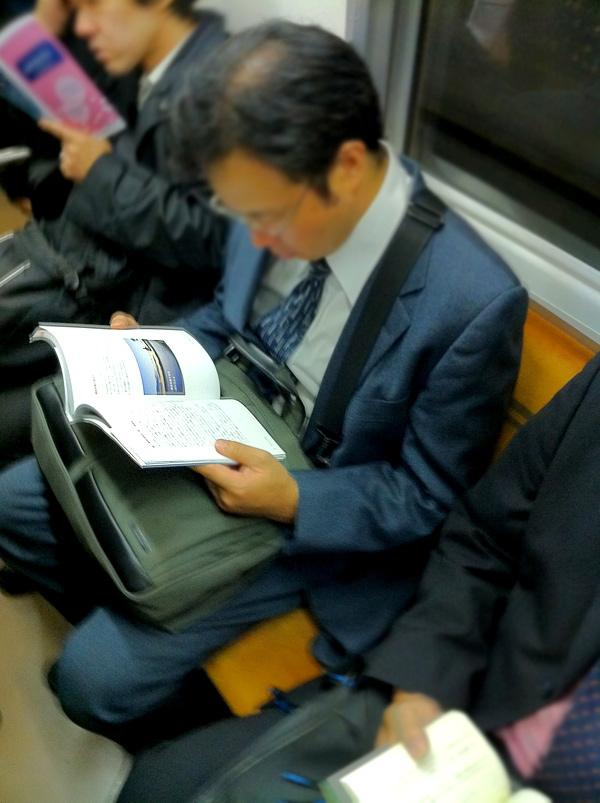person: (3, 18, 533, 739)
